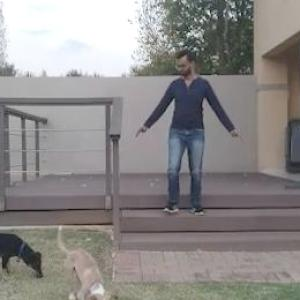land: (140, 53, 234, 230)
